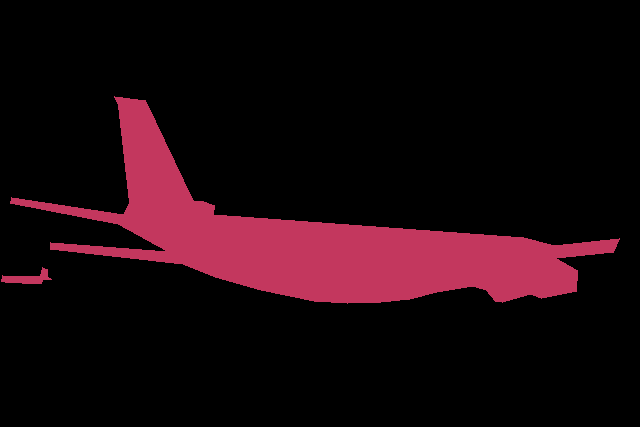Airplane: (10, 96, 620, 303), (1, 267, 51, 284)
